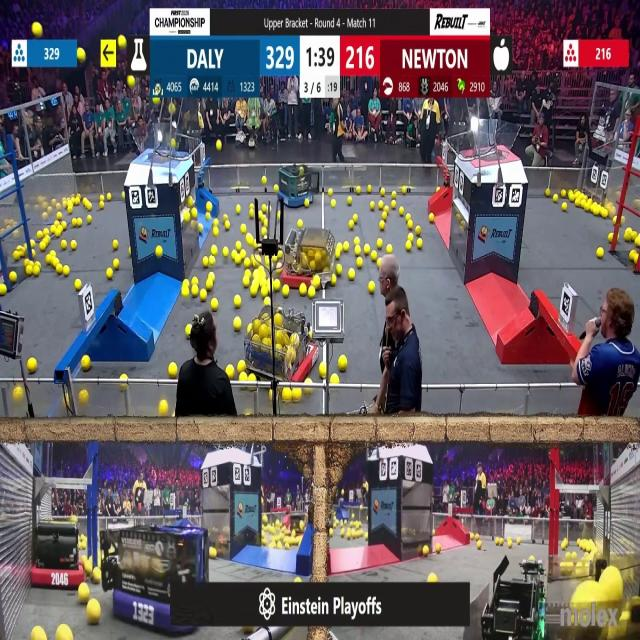ball_airborne: (33, 23, 42, 38), (116, 36, 125, 49), (77, 48, 84, 61), (129, 76, 135, 86), (216, 140, 222, 150), (170, 104, 175, 114), (171, 140, 177, 148)
ball_ground: (89, 602, 102, 626), (78, 585, 89, 604), (58, 626, 72, 640), (561, 562, 572, 576), (12, 386, 22, 401), (160, 402, 169, 418), (32, 628, 44, 640), (169, 362, 178, 376), (81, 355, 90, 369), (319, 362, 327, 377), (340, 356, 348, 371), (29, 357, 37, 372), (283, 388, 291, 402), (630, 251, 639, 263), (292, 388, 300, 401), (94, 569, 102, 582), (238, 360, 246, 372), (250, 284, 258, 296), (592, 204, 600, 216), (314, 276, 321, 289), (83, 563, 91, 574), (235, 295, 242, 307), (235, 318, 242, 330), (299, 284, 306, 296), (226, 364, 233, 376), (367, 282, 374, 294), (112, 260, 119, 272), (309, 286, 316, 298), (210, 548, 217, 560), (274, 280, 281, 292), (248, 235, 255, 247), (155, 246, 162, 258), (428, 572, 436, 582), (63, 267, 70, 278), (597, 248, 604, 259), (262, 286, 269, 297), (249, 256, 256, 267), (283, 285, 289, 297), (212, 300, 218, 312), (356, 256, 362, 268), (34, 266, 40, 278), (9, 273, 16, 283), (190, 286, 197, 296), (182, 287, 189, 297), (330, 374, 337, 384), (61, 240, 68, 250), (57, 266, 64, 276), (625, 232, 632, 242), (601, 209, 608, 219), (75, 280, 81, 291), (0, 284, 6, 295), (204, 256, 210, 267), (337, 265, 343, 276), (201, 289, 207, 300), (363, 245, 369, 256), (27, 266, 33, 277), (298, 521, 304, 532), (76, 218, 84, 226), (240, 373, 247, 382), (254, 255, 261, 264), (107, 269, 113, 279), (244, 277, 250, 287), (355, 246, 361, 256), (207, 280, 213, 290), (349, 270, 355, 280), (222, 247, 228, 257), (407, 242, 413, 252), (236, 255, 242, 265), (422, 545, 428, 555), (370, 250, 376, 260), (190, 209, 196, 219), (44, 254, 50, 264), (183, 212, 189, 222), (62, 221, 69, 229), (185, 325, 190, 336), (331, 275, 336, 286), (211, 246, 217, 255), (380, 220, 386, 229), (209, 255, 215, 264), (244, 258, 250, 267), (348, 220, 354, 229), (241, 249, 247, 258), (344, 243, 350, 252), (408, 220, 414, 229), (568, 190, 574, 199), (417, 239, 422, 249), (71, 241, 76, 251), (608, 234, 613, 244), (378, 240, 383, 250), (190, 278, 197, 285), (205, 213, 212, 220), (266, 296, 272, 304), (409, 234, 415, 242), (428, 214, 434, 222), (106, 192, 112, 200), (208, 273, 214, 281), (182, 279, 188, 287), (100, 202, 106, 210), (296, 220, 302, 228), (416, 226, 422, 234), (379, 202, 385, 210), (68, 207, 74, 215), (72, 218, 78, 226), (120, 374, 126, 382), (263, 226, 269, 234), (88, 202, 94, 210), (266, 256, 272, 264), (278, 250, 284, 258), (574, 200, 580, 208), (496, 536, 502, 544), (376, 258, 382, 266), (112, 241, 117, 250), (237, 242, 242, 251), (369, 202, 374, 211), (562, 203, 567, 212), (391, 201, 396, 210), (40, 242, 45, 251), (337, 250, 342, 259), (51, 256, 56, 265), (407, 213, 412, 222), (354, 238, 360, 245), (250, 375, 256, 382), (100, 193, 106, 200), (214, 219, 220, 226), (517, 537, 523, 544), (387, 245, 392, 253), (436, 542, 440, 552), (237, 206, 242, 214), (224, 221, 229, 229), (241, 224, 246, 232), (207, 204, 212, 212), (249, 210, 254, 218), (398, 207, 403, 215), (233, 250, 238, 258), (353, 214, 358, 222), (475, 540, 480, 548), (507, 540, 512, 548), (561, 541, 566, 549), (199, 224, 204, 232), (264, 205, 269, 213), (75, 198, 80, 206), (366, 185, 371, 193), (58, 212, 63, 220), (264, 218, 269, 226), (31, 241, 36, 249), (357, 531, 362, 539), (401, 186, 406, 194), (294, 576, 300, 582), (554, 193, 558, 202), (306, 379, 312, 385), (32, 249, 36, 258), (636, 238, 640, 247), (544, 188, 549, 195), (356, 186, 361, 193), (561, 189, 566, 196), (381, 188, 386, 195), (273, 255, 278, 262), (348, 198, 352, 206), (214, 227, 218, 235), (342, 532, 346, 540), (264, 179, 268, 187), (384, 206, 388, 214), (329, 529, 333, 537), (274, 184, 278, 192), (249, 204, 254, 210), (331, 201, 335, 208), (89, 216, 93, 223), (306, 201, 310, 208), (612, 216, 616, 223), (472, 536, 476, 543), (364, 533, 368, 540), (328, 189, 332, 195), (392, 191, 396, 197), (432, 529, 436, 535), (224, 214, 228, 220), (25, 258, 29, 264), (121, 191, 124, 198), (358, 519, 361, 526)
goal: (464, 120, 522, 160), (130, 128, 190, 160)
robot_blue: (106, 521, 206, 633), (276, 164, 316, 208)
robot_red: (246, 310, 318, 382), (35, 518, 84, 589), (283, 229, 336, 290)
